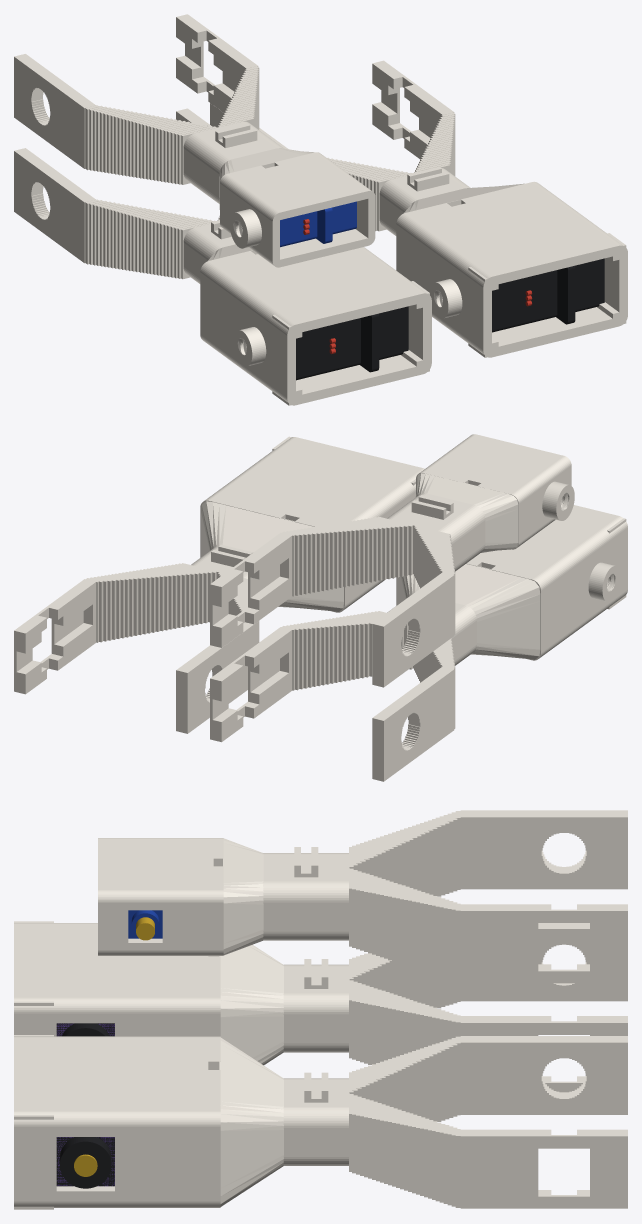
Rendered from plate-3-arms.glb.
3 views of the same model, one above another, from view 1: azimuth 30°, elevation 25°; view 2: azimuth 150°, elevation 25°; view 3: azimuth 270°, elevation 25° (orthographic). The views are drawn at different scales.
Visible parts, largest first — view 1: arm-lower, arm-upper, arm-fore, mg996r-body-elbow, mg996r-body-shoulder, sg90-body-head, mg996r-tabs-shoulder, mg996r-tabs-elbow; view 2: arm-lower, arm-fore, arm-upper; view 3: arm-upper, arm-fore, arm-lower, mg996r-boss-elbow, mg996r-body-elbow.
Boxes of the visible parts, x1=… form: arm-lower: x1=14, y1=108, x2=431, y2=405; arm-upper: x1=210, y1=60, x2=627, y2=357; arm-fore: x1=14, y1=14, x2=375, y2=267; mg996r-body-elbow: x1=492, y1=258, x2=604, y2=332; mg996r-body-shoulder: x1=296, y1=306, x2=408, y2=380; sg90-body-head: x1=280, y1=201, x2=356, y2=247; mg996r-tabs-shoulder: x1=360, y1=313, x2=379, y2=372; mg996r-tabs-elbow: x1=556, y1=265, x2=575, y2=324; arm-lower: x1=210, y1=505, x2=627, y2=781; arm-fore: x1=210, y1=434, x2=574, y2=687; arm-upper: x1=14, y1=436, x2=424, y2=733; arm-upper: x1=14, y1=1035, x2=627, y2=1209; arm-fore: x1=98, y1=810, x2=627, y2=983; arm-lower: x1=14, y1=921, x2=627, y2=1092; mg996r-boss-elbow: x1=60, y1=1137, x2=111, y2=1188; mg996r-body-elbow: x1=56, y1=1137, x2=114, y2=1186.
Bounding box in the file's own units: 127 × 55.4 × 154.
